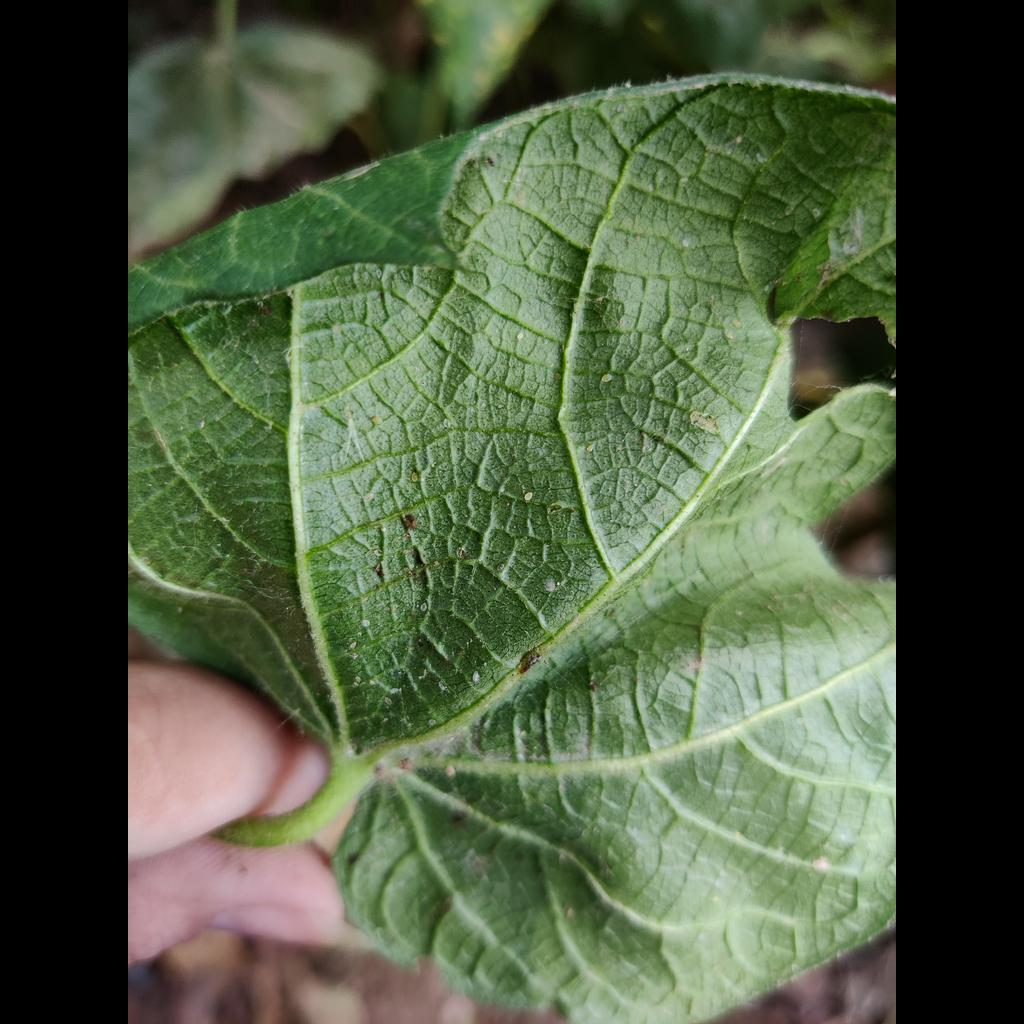nymph: (812, 856, 829, 873), (545, 581, 556, 592), (602, 373, 613, 383), (372, 415, 382, 425), (472, 670, 479, 683), (360, 620, 371, 628), (566, 908, 574, 919), (524, 492, 533, 501), (384, 696, 392, 706), (681, 238, 689, 248), (411, 472, 418, 483), (429, 717, 437, 726), (420, 602, 427, 612), (199, 419, 205, 430), (354, 676, 362, 683), (711, 895, 719, 902), (390, 688, 398, 694), (349, 642, 357, 648), (517, 333, 523, 340), (587, 445, 593, 452), (736, 136, 741, 143), (369, 680, 374, 686), (381, 528, 386, 532)
